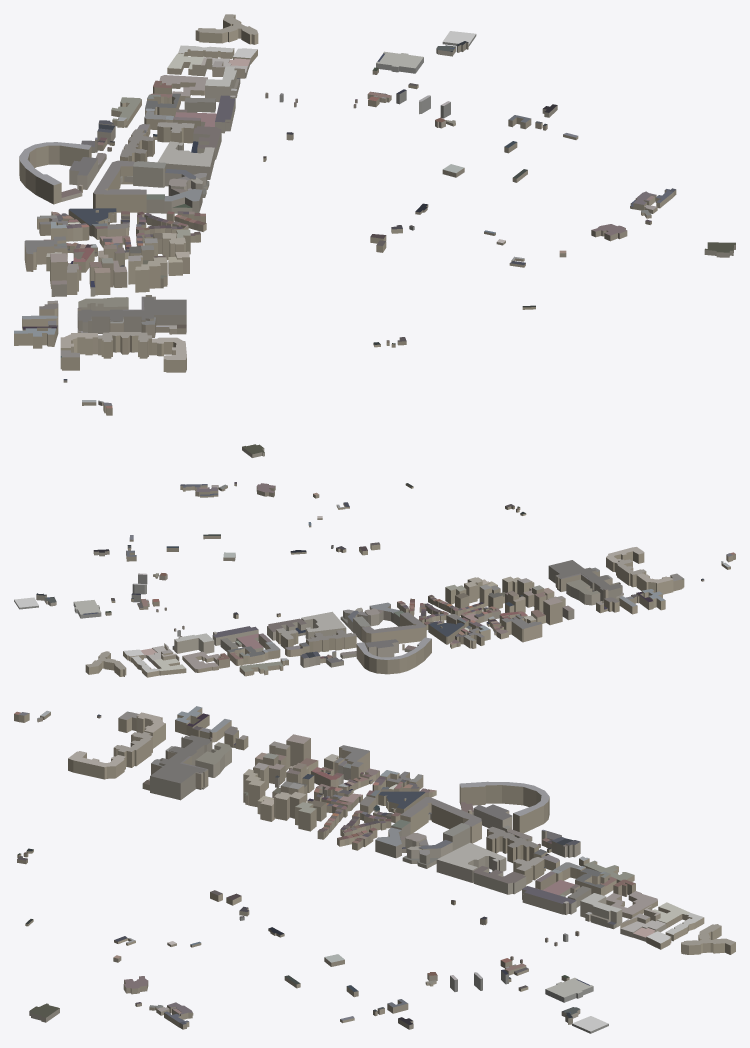
The picture shows the model from 3 angles, top to bottom: view 1: azimuth 30°, elevation 25°; view 2: azimuth 150°, elevation 25°; view 3: azimuth 270°, elevation 25°; orthographic projection. The views are drawn at different scales.
Parts seen in each view (by area): view 1: tuile; view 2: tuile; view 3: tuile.
Boxes of the visible parts, <box> form: tuile: <box>14,14,735,415</box>; tuile: <box>14,444,735,677</box>; tuile: <box>14,706,735,1033</box>.
Bounding box in the file's own units: 1018 × 48.11 × 976.
